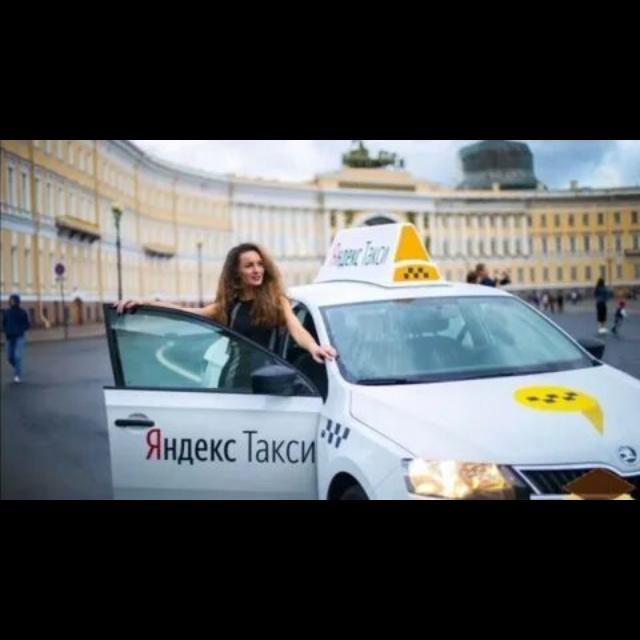taxi: (101, 220, 639, 500)
